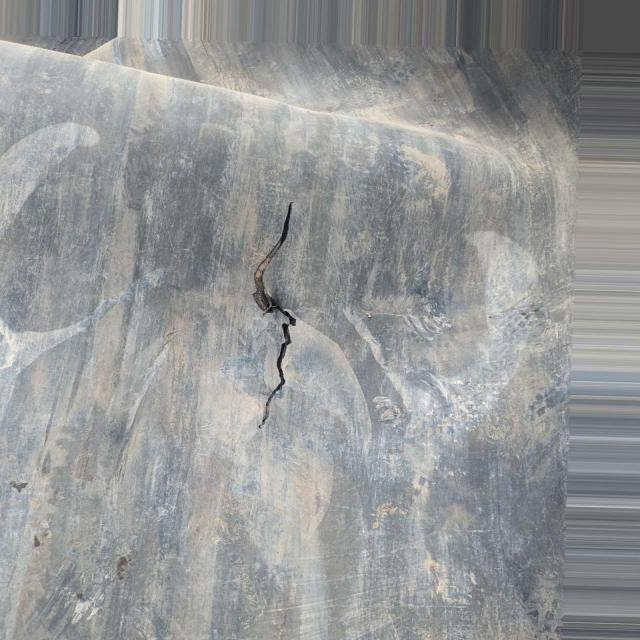Tear: (244, 200, 317, 441)
